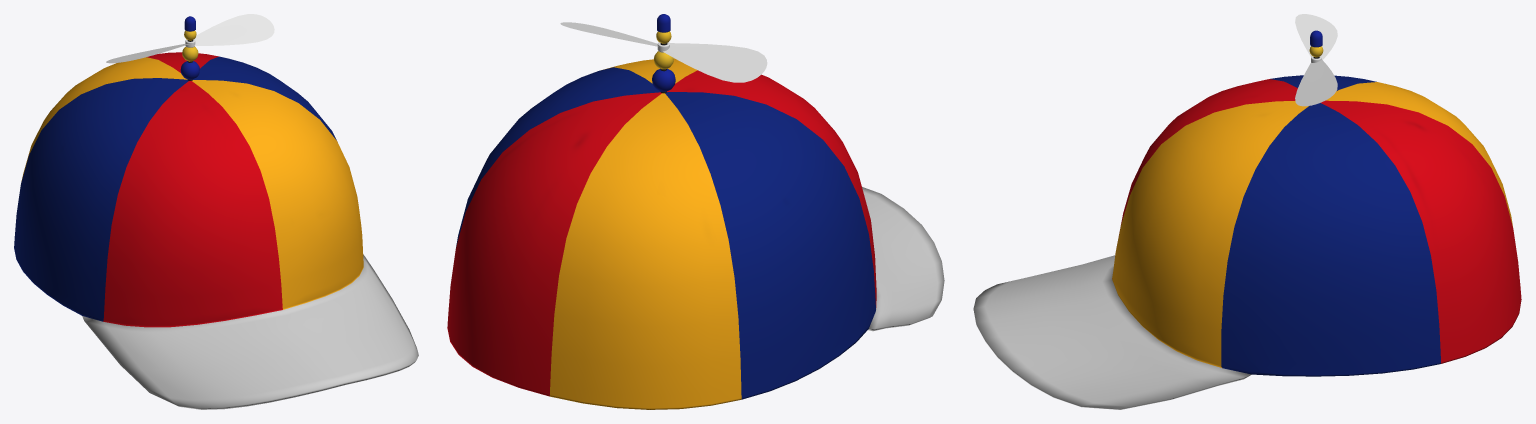
The model's file is Propeller.fbx.
3 renders of one model, left to right at view 1: azimuth 30°, elevation 25°; view 2: azimuth 150°, elevation 25°; view 3: azimuth 270°, elevation 25°, orthographic. The views are drawn at different scales.
Parts seen in each view (by area): view 1: cap, propeller, blue_sphere; view 2: cap, propeller, blue_sphere, yellow_sphere; view 3: cap, propeller.
Boxes of the visible parts, box(x1,y1,x2,y2) form: cap: box(14, 52, 418, 409); propeller: box(106, 14, 274, 63); blue_sphere: box(180, 16, 199, 79); cap: box(447, 58, 944, 409); propeller: box(560, 22, 767, 82); blue_sphere: box(652, 14, 675, 91); yellow_sphere: box(654, 31, 673, 69); cap: box(973, 75, 1521, 409); propeller: box(1295, 14, 1337, 106).
Size of the model in its own units: 241 by 228 by 362.
